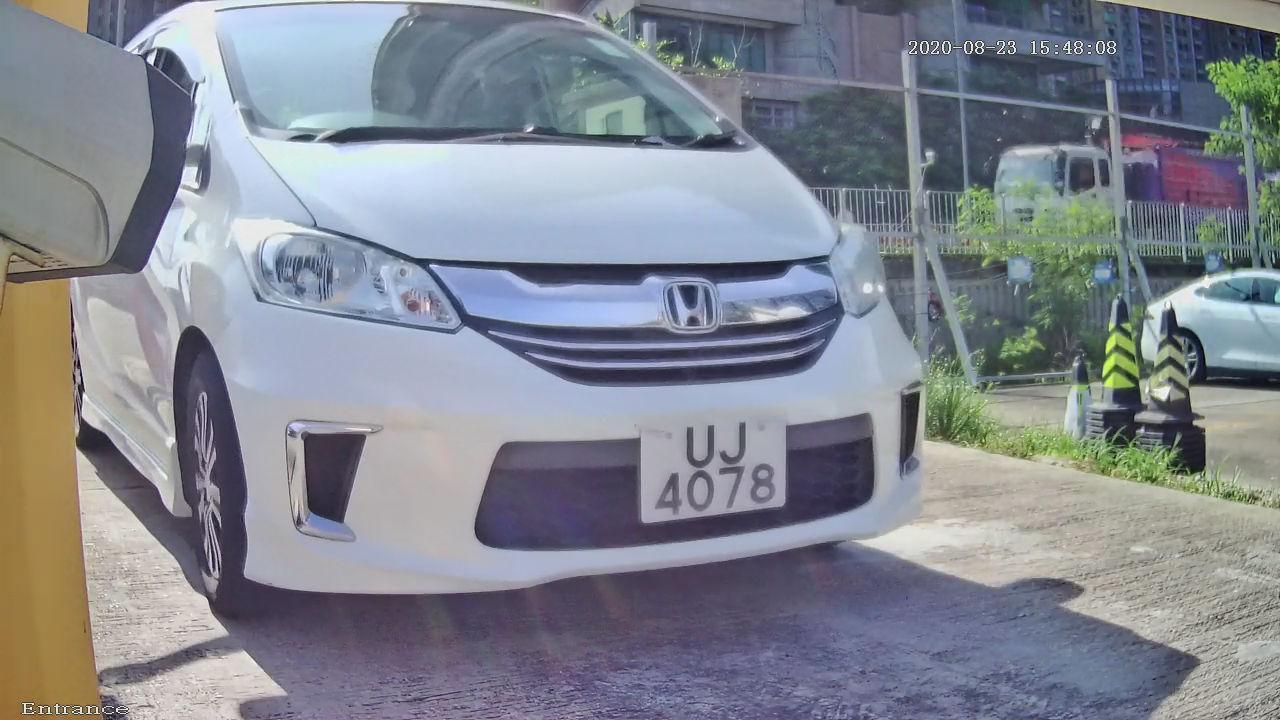Car: (35, 1, 1001, 669)
License Plate: (612, 396, 795, 547)
